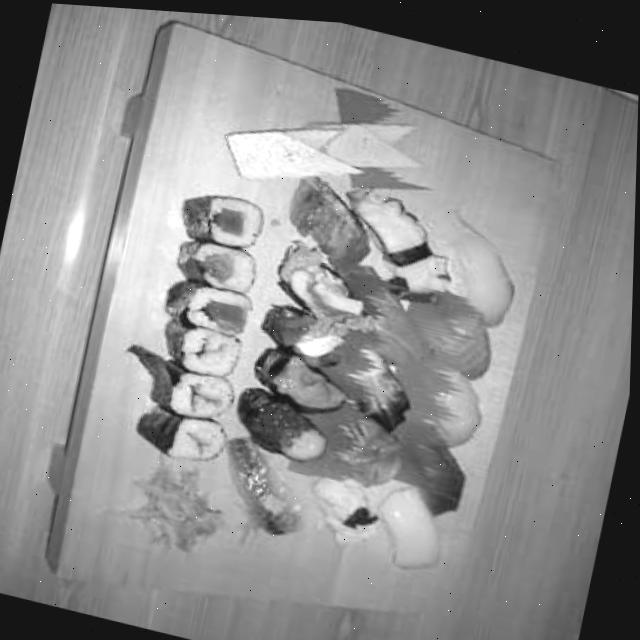寿司卷物: (68, 21, 549, 629)
